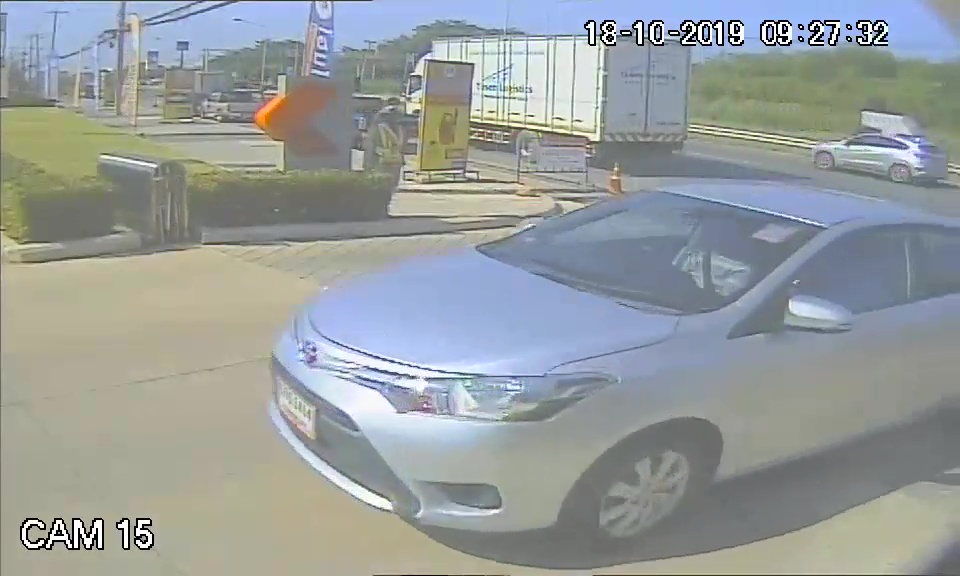sedan: (262, 177, 960, 546)
